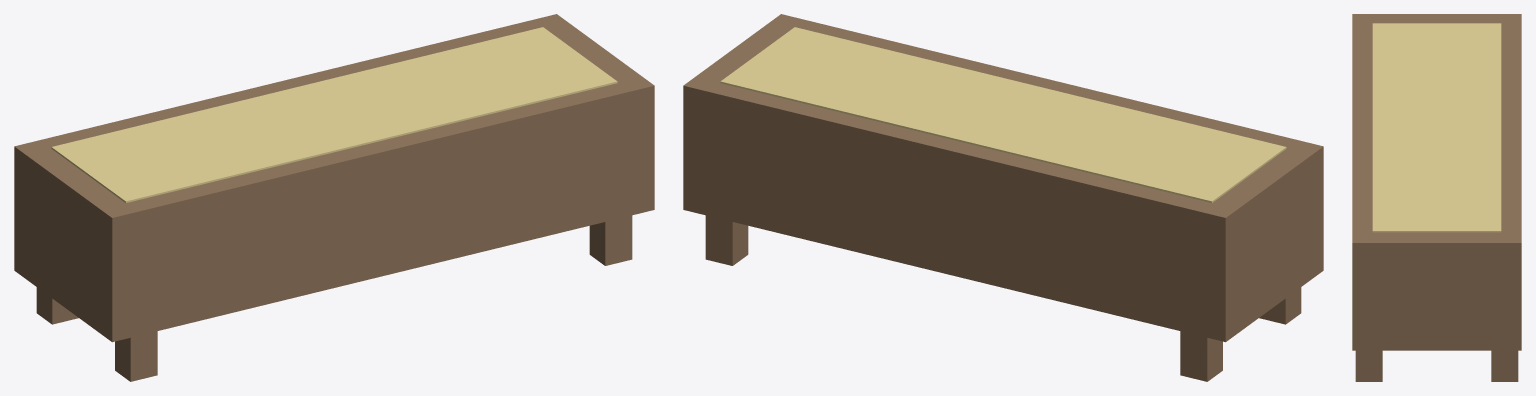
Rendered from feed_trough.glb.
3 renders of one model, left to right at view 1: azimuth 30°, elevation 25°; view 2: azimuth 150°, elevation 25°; view 3: azimuth 270°, elevation 25°, orthographic. The views are drawn at different scales.
Visible parts, largest first — view 1: feed_trough; view 2: feed_trough; view 3: feed_trough.
Part boxes in pixels (x1=…): feed_trough: x1=14, y1=14, x2=654, y2=381; feed_trough: x1=683, y1=14, x2=1323, y2=381; feed_trough: x1=1352, y1=14, x2=1521, y2=381.
Bounding box in the file's own units: 1.6 × 0.485 × 0.5001.
